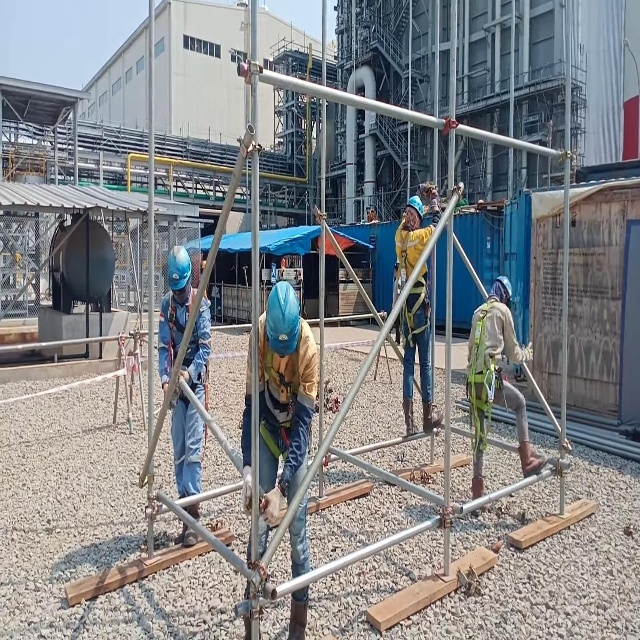Arnes_seguridad: (256, 306, 305, 471), (166, 276, 211, 450), (461, 290, 508, 456), (394, 220, 432, 355)
